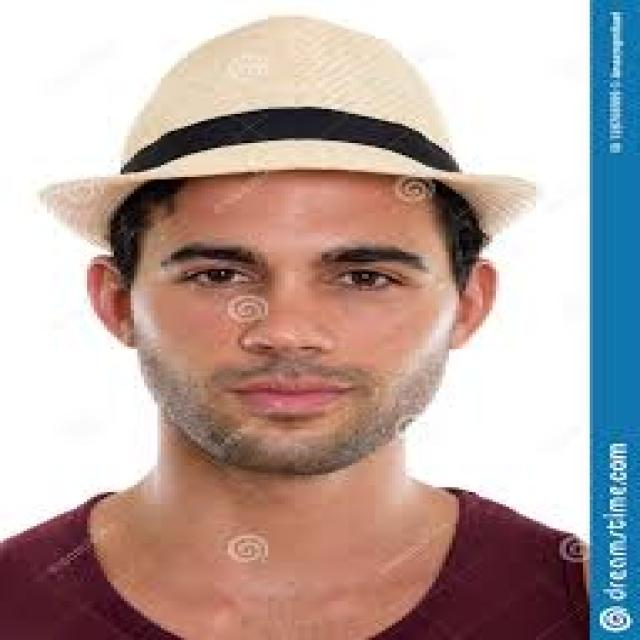hat: (37, 15, 539, 472)
